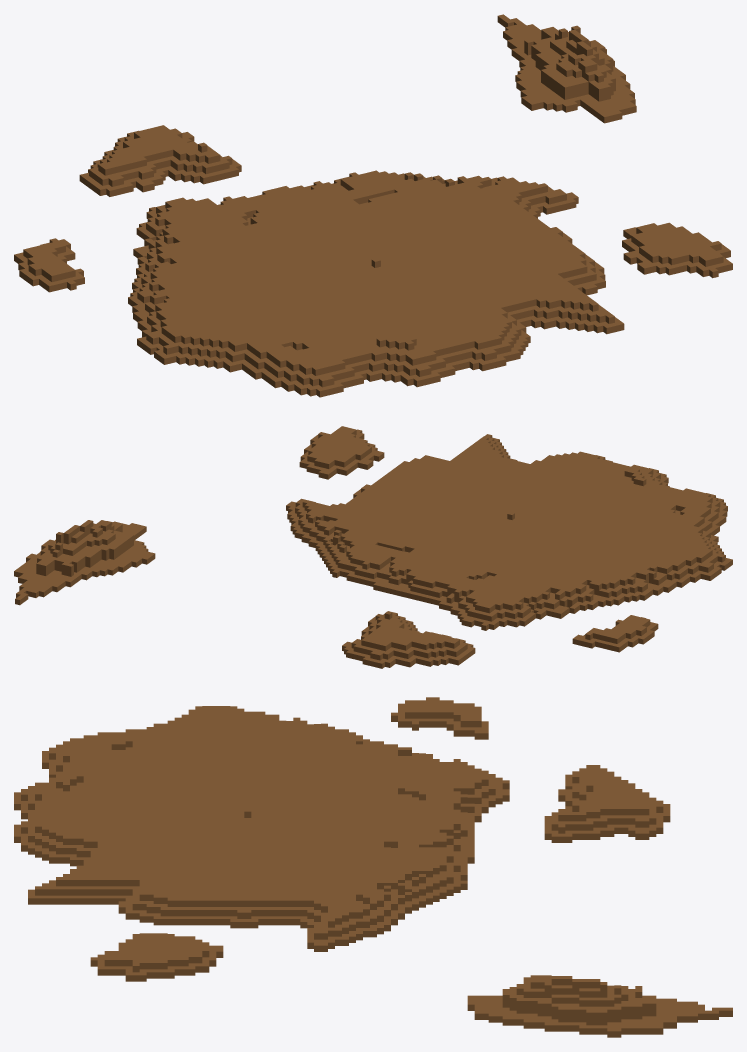
Rendered from TowerFall.obj.
The picture shows the model from 3 angles, top to bottom: view 1: azimuth 30°, elevation 25°; view 2: azimuth 150°, elevation 25°; view 3: azimuth 270°, elevation 25°; orthographic projection. The views are drawn at different scales.
Visible parts, largest first — view 1: TowerFall; view 2: TowerFall; view 3: TowerFall.
Boxes of the visible parts, x1,y1,x2,y2 form: TowerFall: [14, 14, 732, 397]; TowerFall: [14, 426, 732, 668]; TowerFall: [14, 697, 732, 1037].
Size of the model in its own units: 112 by 6 by 103.
1 material, 1 textured.
